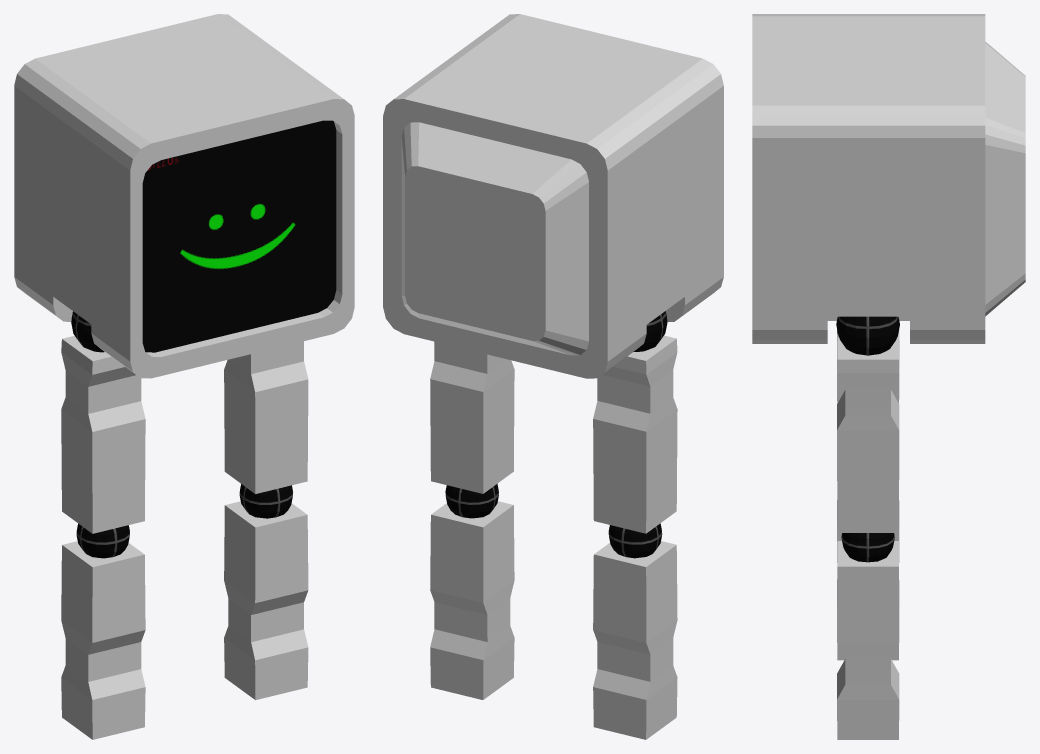
The model's file is Billy.fbx.
The picture shows the model from 3 angles, left to right: view 1: azimuth 30°, elevation 25°; view 2: azimuth 150°, elevation 25°; view 3: azimuth 270°, elevation 25°; orthographic projection.
Visible parts, largest first — view 1: Cube, Cube.004, Cube.002, Cube.003, Black; view 2: Cube, Cube.002, Cube.004, Cube.003, Black; view 3: Cube, Black, Cube.002.
Boxes of the visible parts, x1=… form: Cube: x1=14, y1=14, x2=354, y2=378; Cube.004: x1=61, y1=523, x2=145, y2=739; Cube.002: x1=224, y1=484, x2=308, y2=700; Cube.003: x1=61, y1=311, x2=145, y2=533; Black: x1=224, y1=341, x2=308, y2=493; Cube: x1=383, y1=14, x2=723, y2=378; Cube.002: x1=430, y1=483, x2=514, y2=699; Cube.004: x1=593, y1=523, x2=677, y2=739; Cube.003: x1=593, y1=311, x2=677, y2=533; Black: x1=430, y1=341, x2=514, y2=493; Cube: x1=752, y1=14, x2=1025, y2=343; Black: x1=836, y1=316, x2=899, y2=532; Cube.002: x1=837, y1=533, x2=899, y2=739.
Bounding box in the file's own units: 200 × 531 × 210.
